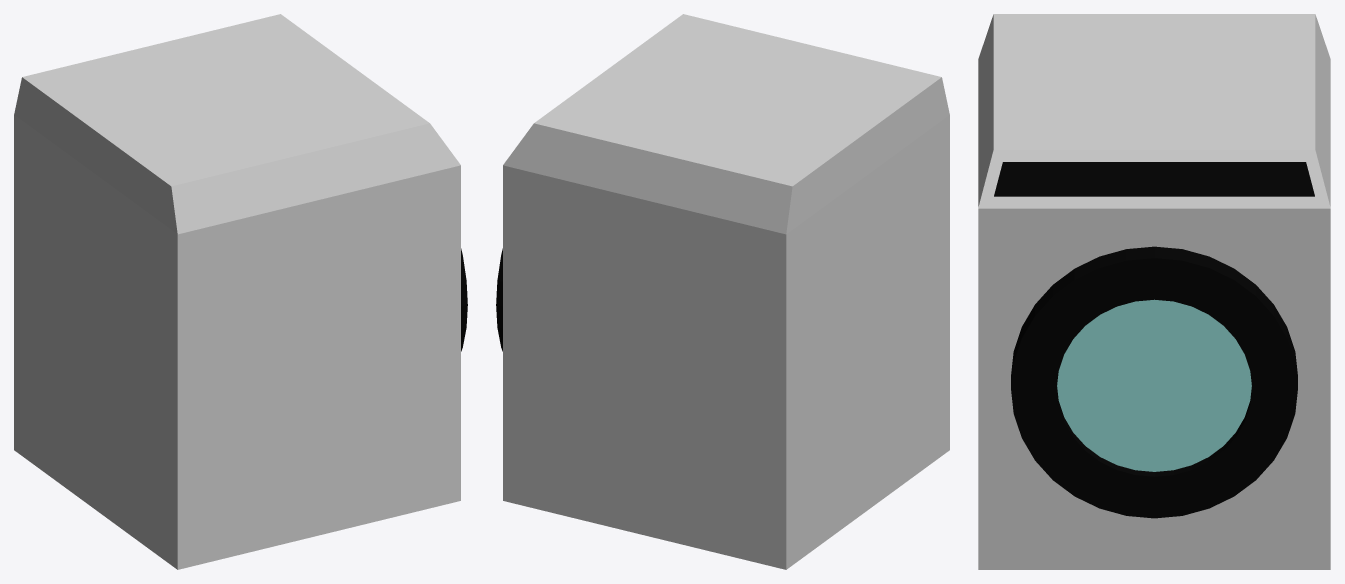
File: washingMachine.fbx
3 renders of one model, left to right at view 1: azimuth 30°, elevation 25°; view 2: azimuth 150°, elevation 25°; view 3: azimuth 270°, elevation 25°, orthographic. The views are drawn at different scales.
Visible parts, largest first — view 1: Cube; view 2: Cube; view 3: Cube.
Part boxes in pixels (x1,y1,x2,y2): Cube: (14,14,467,569); Cube: (496,14,949,569); Cube: (978,14,1330,569).
Size of the model in its own units: 216 by 255 by 200.
